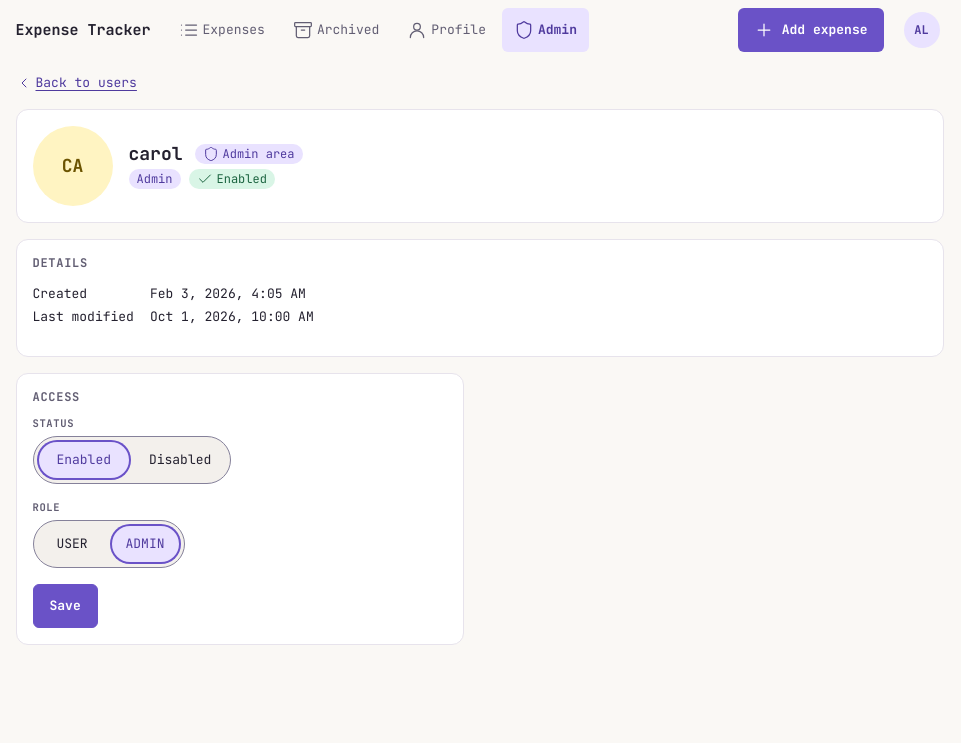
Scenario: edit user › shows LAST_ADMIN at the form
Check: the heading "carol" is shown, box [128,144,182,165]
Click the radio button labelled "Disabled". click: (180, 460)
box: [149,451,211,468]
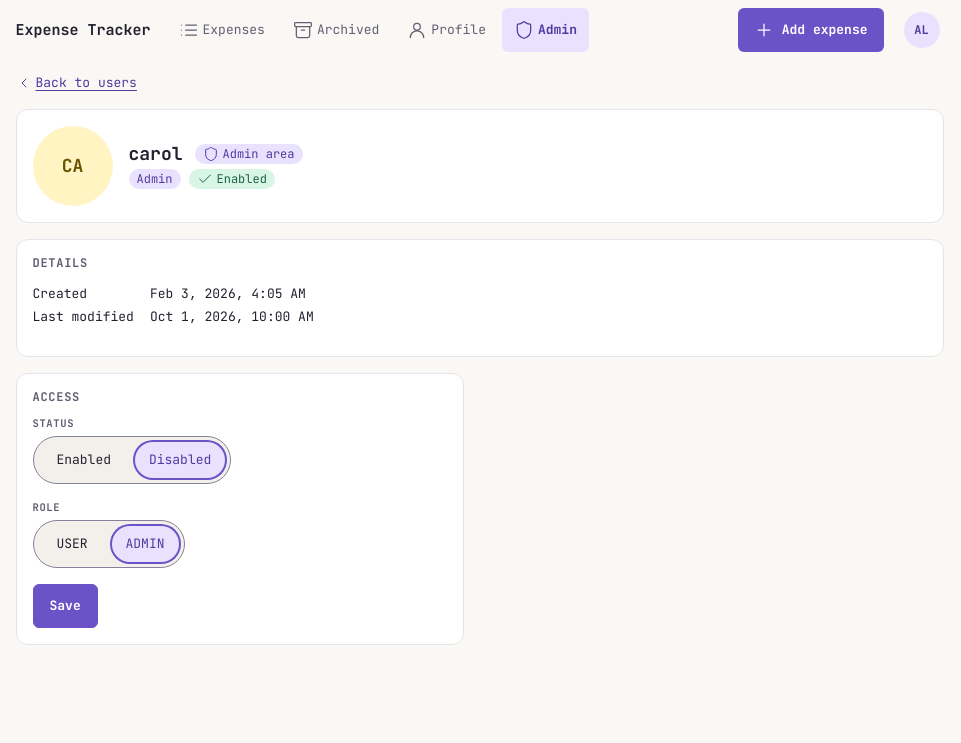
Click the button "Save". click: (65, 606)
box: [32,584,98,628]
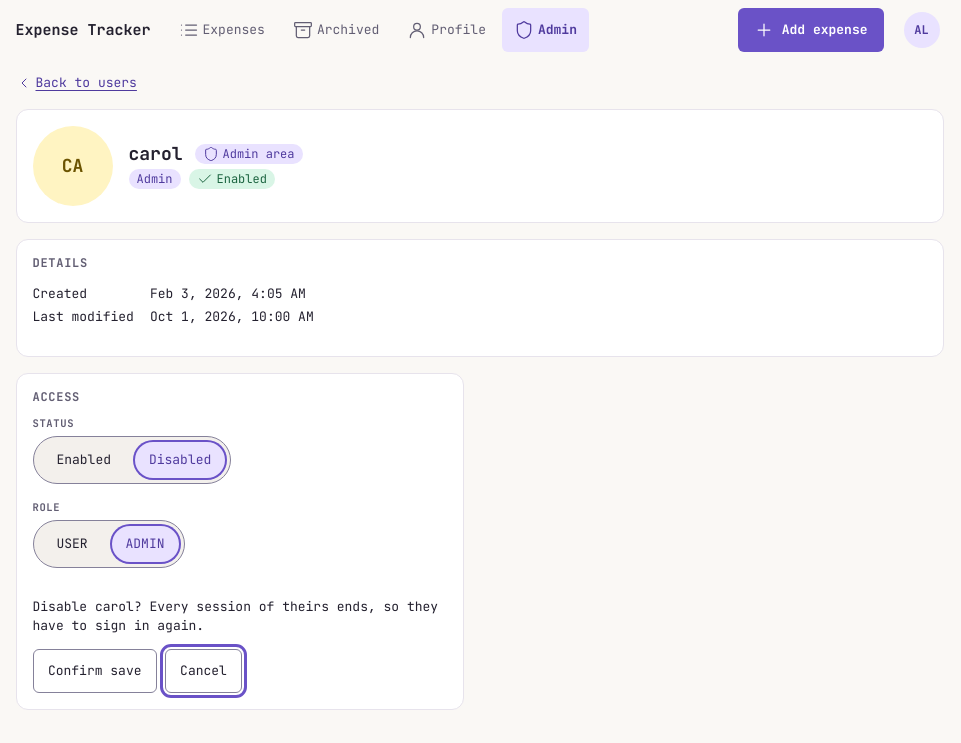
Click the button "Confirm save". click: (95, 670)
box: [32,648,157,692]
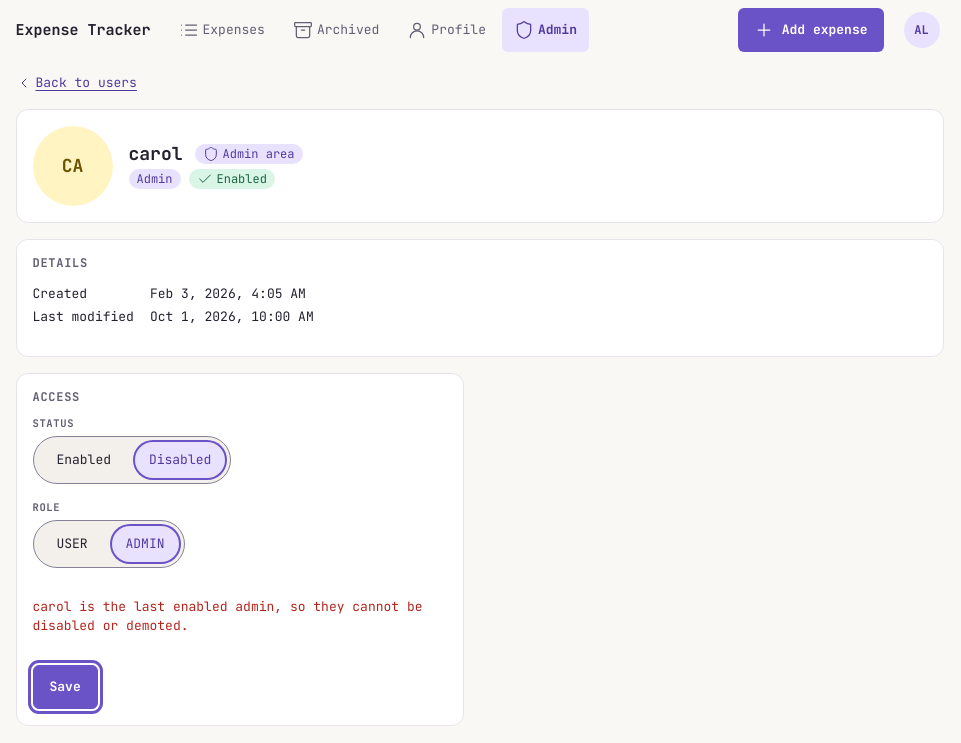
Check: the message reads "carol is the last enabled admin, so they cannot be disabled or demoted.", box [32,598,422,634]
